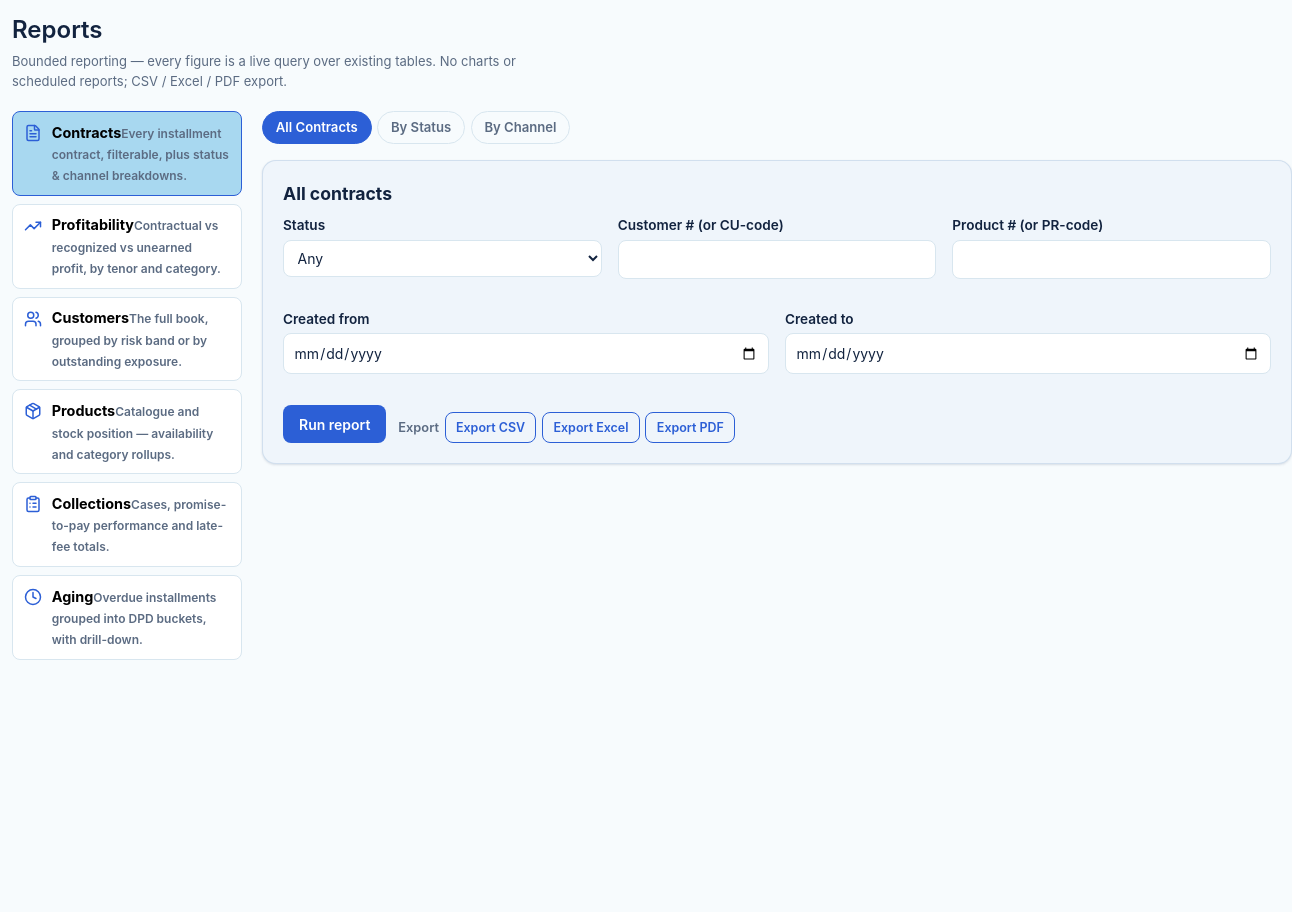
Test: Part A — totals and counts › Contracts report totals row matches a manually-summed scenario
Click the button "Run report".
click(335, 424)  # box [283, 405, 386, 443]
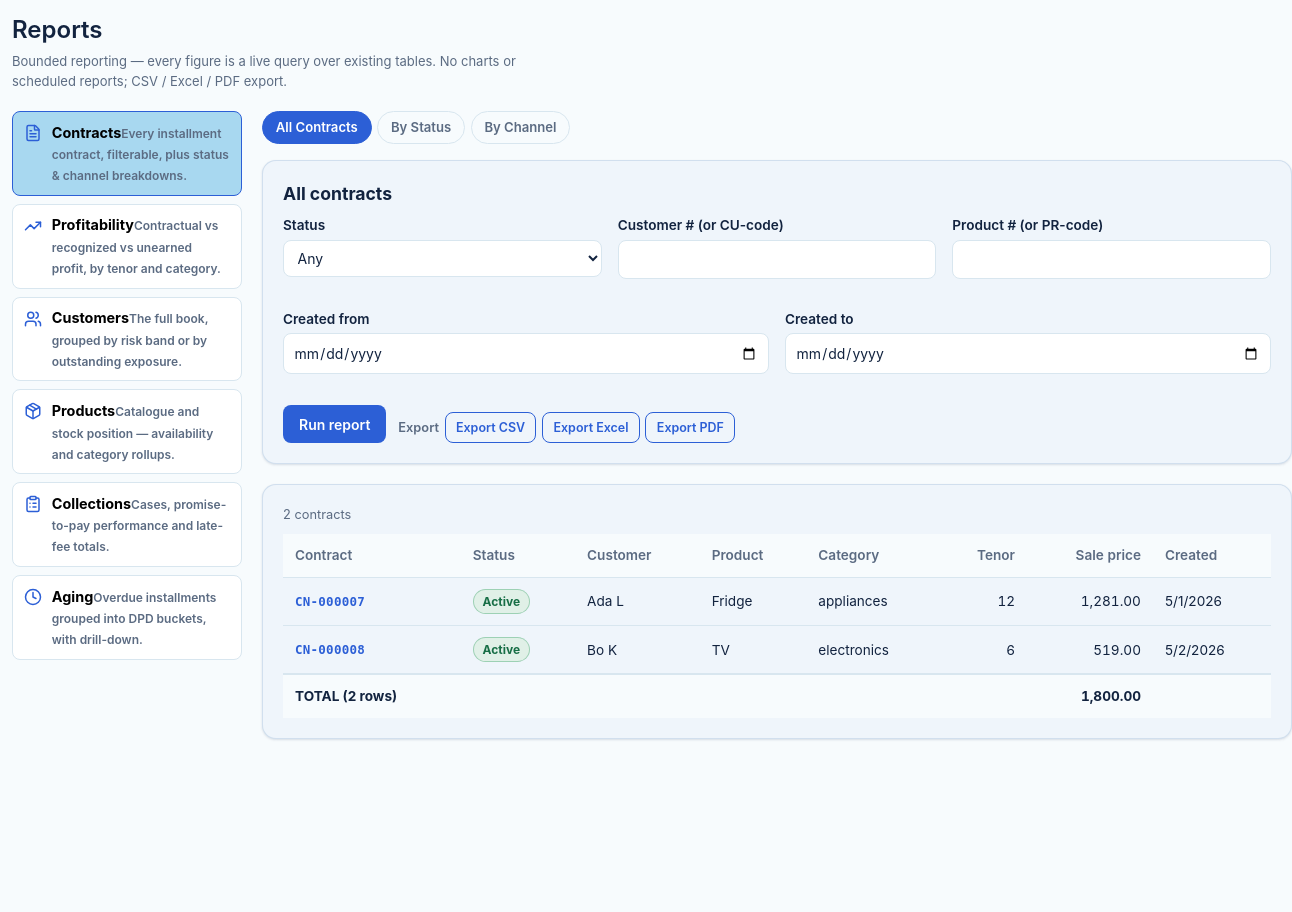
Result: the row with test id "totals-row" shows "TOTAL (2 rows)" at [283, 674, 1271, 718]
Result: the row with test id "totals-row" shows "1,800.00" at [1081, 688, 1141, 704]
